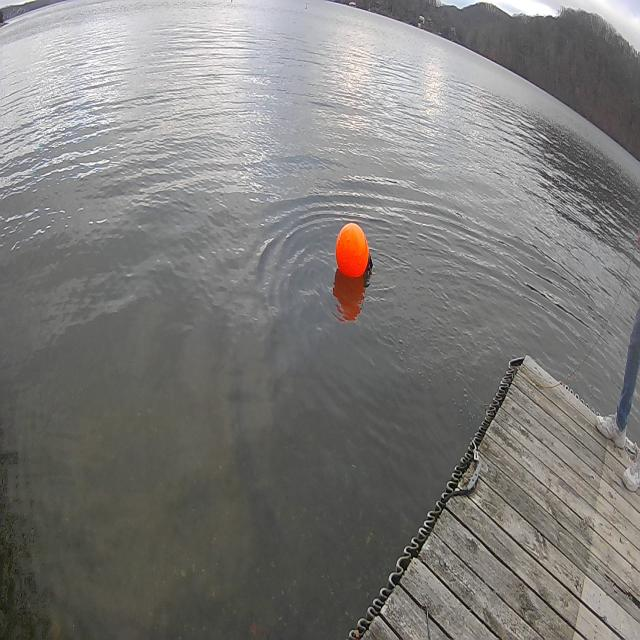Buoy: (334, 218, 374, 290)
